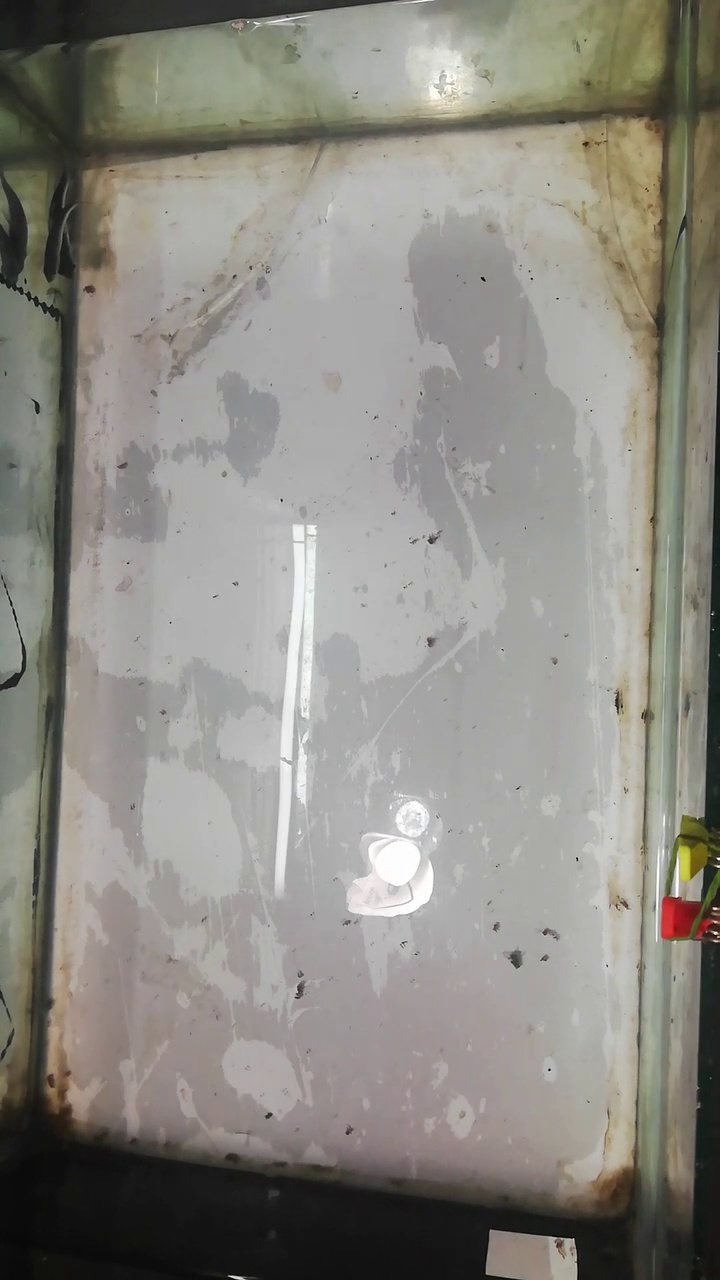fish1: (50, 157, 87, 273)
fish2: (42, 199, 79, 284)
